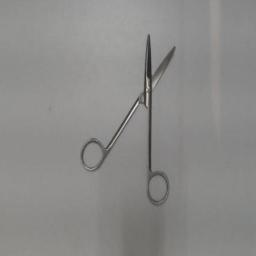Curved Mayo Scissors: (78, 28, 178, 210)
